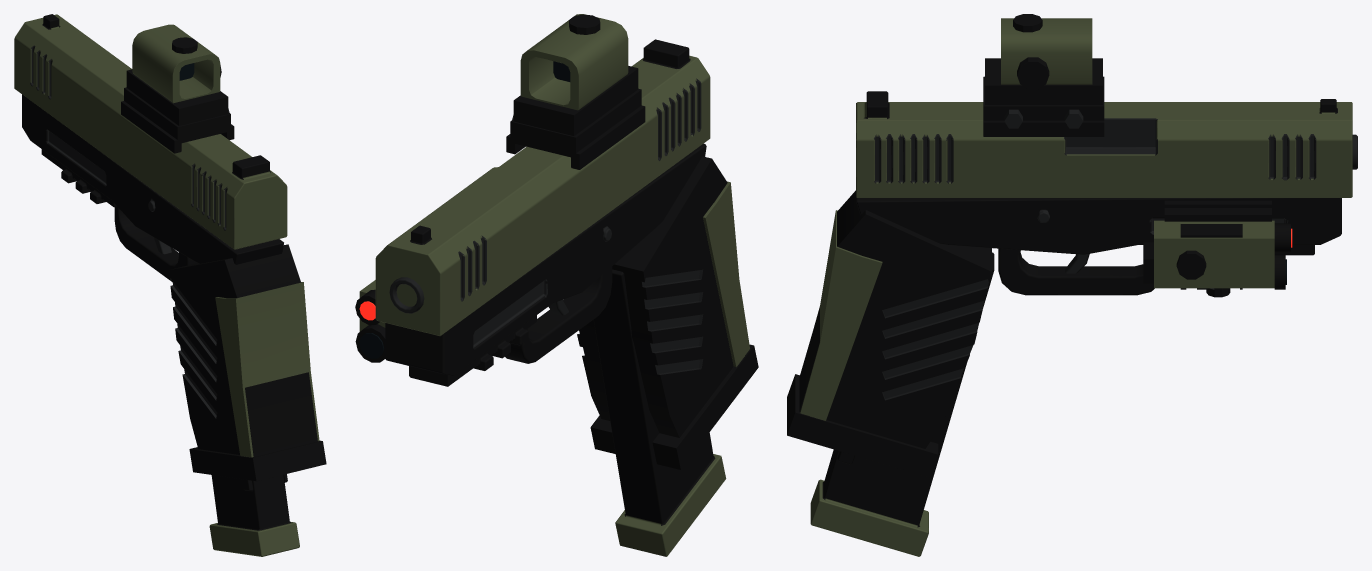
Rendered from pistol_s1_bo.glb.
3 renders of one model, left to right at view 1: azimuth 30°, elevation 25°; view 2: azimuth 150°, elevation 25°; view 3: azimuth 270°, elevation 25°, orthographic. The views are drawn at different scales.
Parts seen in each view (by area): view 1: grip, upper, optic, receiver, magazine, trigger_guard; view 2: upper, grip, receiver, optic, magazine, trigger_guard, laser, barrel; view 3: upper, grip, receiver, optic, laser, magazine, trigger_guard.
Part boxes in pixels (<box>): grip: <box>168,244,326,481</box>; upper: <box>14,14,287,249</box>; optic: <box>121,24,234,153</box>; receiver: <box>22,94,283,264</box>; magazine: <box>209,474,299,556</box>; trigger_guard: <box>114,206,197,281</box>; upper: <box>375,39,710,335</box>; grip: <box>577,156,758,469</box>; receiver: <box>385,143,706,386</box>; optic: <box>506,14,645,169</box>; magazine: <box>593,269,726,556</box>; trigger_guard: <box>505,266,612,363</box>; laser: <box>355,280,385,362</box>; barrel: <box>389,277,424,313</box>; upper: <box>856,91,1352,197</box>; grip: <box>787,190,991,477</box>; receiver: <box>856,197,1341,255</box>; optic: <box>983,14,1104,136</box>; laser: <box>1143,200,1292,297</box>; magazine: <box>810,252,994,556</box>; trigger_guard: <box>998,248,1154,295</box>.
Bounding box in the file's own units: 0.06 × 0.2166 × 0.2127.
